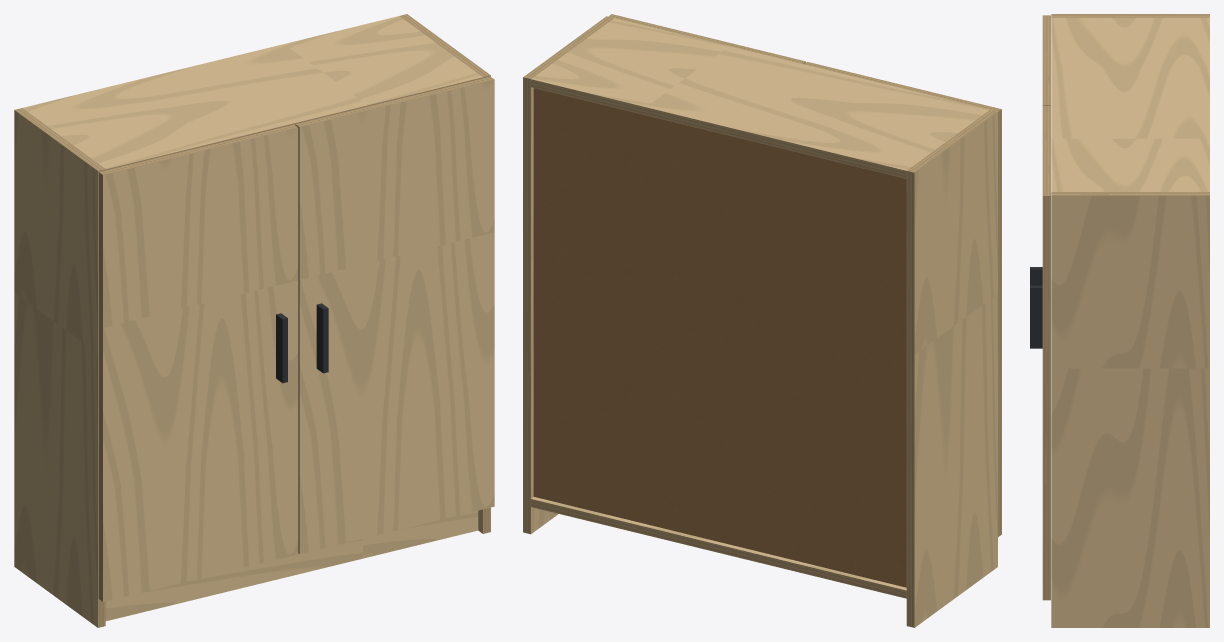
File: SAB-SHO-std.glb
The picture shows the model from 3 angles, left to right: view 1: azimuth 30°, elevation 25°; view 2: azimuth 150°, elevation 25°; view 3: azimuth 270°, elevation 25°; orthographic projection. The views are drawn at different scales.
Visible parts, largest first — view 1: door-r:sheet:eyJtIjoicGx5Iiwic2lkZSI6ImZhY2UiLCJzZWVkIjoyLCJ, door-l:sheet:eyJtIjoicGx5Iiwic2lkZSI6ImZhY2UiLCJzZWVkIjoyLCJ, side-l:sheet:eyJtIjoicGx5Iiwic2lkZSI6ImZhY2UiLCJzZWVkIjoxLCJ, top:sheet:eyJtIjoicGx5Iiwic2lkZSI6ImZhY2UiLCJzZWVkIjo2LCJ2ZW, plinth:sheet:eyJtIjoicGx5Iiwic2lkZSI6ImZhY2UiLCJzZWVkIjozLCJ, door-l:sheet:eyJtIjoicGx5Iiwic2lkZSI6ImVkZ2UtbG9uZyIsInNlZWQ, pull, door-l:sheet:eyJtIjoicGx5Iiwic2lkZSI6ImVkZ2UtZW5kIiwic2VlZCI, door-r:sheet:eyJtIjoicGx5Iiwic2lkZSI6ImVkZ2UtZW5kIiwic2VlZCI, door-r:sheet:eyJtIjoicGx5Iiwic2lkZSI6ImVkZ2UtbG9uZyIsInNlZWQ, side-l:sheet:eyJtIjoicGx5Iiwic2lkZSI6ImVkZ2UtZW5kIiwic2VlZCI, side-r:sheet:eyJtIjoicGx5Iiwic2lkZSI6ImVkZ2UtZW5kIiwic2VlZCI (+2 smaller); view 2: back:sheet:eyJtIjoibWRmIiwic2lkZSI6ImZhY2UiLCJzZWVkIjoxLCJ0a, side-l:sheet:eyJtIjoicGx5Iiwic2lkZSI6ImZhY2UiLCJzZWVkIjoxLCJ, top:sheet:eyJtIjoicGx5Iiwic2lkZSI6ImZhY2UiLCJzZWVkIjo2LCJ2ZW, side-l:sheet:eyJtIjoicGx5Iiwic2lkZSI6ImVkZ2UtbG9uZyIsInNlZWQ, side-r:sheet:eyJtIjoicGx5Iiwic2lkZSI6ImVkZ2UtbG9uZyIsInNlZWQ, top:sheet:eyJtIjoicGx5Iiwic2lkZSI6ImVkZ2UtbG9uZyIsInNlZWQiOj, bottom:sheet:eyJtIjoicGx5Iiwic2lkZSI6ImVkZ2UtbG9uZyIsInNlZWQ, door-l:sheet:eyJtIjoicGx5Iiwic2lkZSI6ImVkZ2UtbG9uZyIsInNlZWQ, side-r:sheet:eyJtIjoicGx5Iiwic2lkZSI6ImZhY2UiLCJzZWVkIjozLCJ, bottom:sheet:eyJtIjoicGx5Iiwic2lkZSI6ImZhY2UiLCJzZWVkIjowLCJ, door-l:sheet:eyJtIjoicGx5Iiwic2lkZSI6ImVkZ2UtZW5kIiwic2VlZCI, door-r:sheet:eyJtIjoicGx5Iiwic2lkZSI6ImVkZ2UtZW5kIiwic2VlZCI (+2 smaller); view 3: side-r:sheet:eyJtIjoicGx5Iiwic2lkZSI6ImZhY2UiLCJzZWVkIjozLCJ, top:sheet:eyJtIjoicGx5Iiwic2lkZSI6ImZhY2UiLCJzZWVkIjo2LCJ2ZW, door-r:sheet:eyJtIjoicGx5Iiwic2lkZSI6ImVkZ2UtbG9uZyIsInNlZWQ, pull, door-l:sheet:eyJtIjoicGx5Iiwic2lkZSI6ImVkZ2UtZW5kIiwic2VlZCI, door-r:sheet:eyJtIjoicGx5Iiwic2lkZSI6ImVkZ2UtZW5kIiwic2VlZCI, side-l:sheet:eyJtIjoicGx5Iiwic2lkZSI6ImVkZ2UtZW5kIiwic2VlZCI, side-r:sheet:eyJtIjoicGx5Iiwic2lkZSI6ImVkZ2UtZW5kIiwic2VlZCI.
Boxes of the visible parts, x1,y1,x2,y2 form: door-r:sheet:eyJtIjoicGx5Iiwic2lkZSI6ImZhY2UiLCJzZWVkIjoyLCJ: (299, 79, 494, 553); door-l:sheet:eyJtIjoicGx5Iiwic2lkZSI6ImZhY2UiLCJzZWVkIjoyLCJ: (103, 127, 298, 601); side-l:sheet:eyJtIjoicGx5Iiwic2lkZSI6ImZhY2UiLCJzZWVkIjoxLCJ: (14, 110, 97, 627); top:sheet:eyJtIjoicGx5Iiwic2lkZSI6ImZhY2UiLCJzZWVkIjo2LCJ2ZW: (22, 16, 482, 168); plinth:sheet:eyJtIjoicGx5Iiwic2lkZSI6ImZhY2UiLCJzZWVkIjozLCJ: (105, 510, 478, 621); door-l:sheet:eyJtIjoicGx5Iiwic2lkZSI6ImVkZ2UtbG9uZyIsInNlZWQ: (98, 172, 102, 601); pull: (276, 303, 328, 383); door-l:sheet:eyJtIjoicGx5Iiwic2lkZSI6ImVkZ2UtZW5kIiwic2VlZCI: (99, 124, 297, 174); door-r:sheet:eyJtIjoicGx5Iiwic2lkZSI6ImVkZ2UtZW5kIiwic2VlZCI: (295, 76, 494, 127); door-r:sheet:eyJtIjoicGx5Iiwic2lkZSI6ImVkZ2UtbG9uZyIsInNlZWQ: (295, 124, 299, 553); side-l:sheet:eyJtIjoicGx5Iiwic2lkZSI6ImVkZ2UtZW5kIiwic2VlZCI: (14, 108, 105, 170); side-r:sheet:eyJtIjoicGx5Iiwic2lkZSI6ImVkZ2UtZW5kIiwic2VlZCI: (400, 14, 490, 76); back:sheet:eyJtIjoibWRmIiwic2lkZSI6ImZhY2UiLCJzZWVkIjoxLCJ0a: (533, 88, 906, 587); side-l:sheet:eyJtIjoicGx5Iiwic2lkZSI6ImZhY2UiLCJzZWVkIjoxLCJ: (914, 112, 997, 627); top:sheet:eyJtIjoicGx5Iiwic2lkZSI6ImZhY2UiLCJzZWVkIjo2LCJ2ZW: (531, 18, 989, 170); side-l:sheet:eyJtIjoicGx5Iiwic2lkZSI6ImVkZ2UtbG9uZyIsInNlZWQ: (906, 171, 914, 627); side-r:sheet:eyJtIjoicGx5Iiwic2lkZSI6ImVkZ2UtbG9uZyIsInNlZWQ: (523, 77, 530, 534); top:sheet:eyJtIjoicGx5Iiwic2lkZSI6ImVkZ2UtbG9uZyIsInNlZWQiOj: (531, 79, 906, 178); bottom:sheet:eyJtIjoicGx5Iiwic2lkZSI6ImVkZ2UtbG9uZyIsInNlZWQ: (531, 499, 906, 598); door-l:sheet:eyJtIjoicGx5Iiwic2lkZSI6ImVkZ2UtbG9uZyIsInNlZWQ: (998, 109, 1001, 536); side-r:sheet:eyJtIjoicGx5Iiwic2lkZSI6ImZhY2UiLCJzZWVkIjozLCJ: (531, 87, 558, 533); bottom:sheet:eyJtIjoicGx5Iiwic2lkZSI6ImZhY2UiLCJzZWVkIjowLCJ: (531, 497, 906, 590); door-l:sheet:eyJtIjoicGx5Iiwic2lkZSI6ImVkZ2UtZW5kIiwic2VlZCI: (804, 62, 1001, 111); door-r:sheet:eyJtIjoicGx5Iiwic2lkZSI6ImVkZ2UtZW5kIiwic2VlZCI: (608, 14, 805, 63); side-r:sheet:eyJtIjoicGx5Iiwic2lkZSI6ImZhY2UiLCJzZWVkIjozLCJ: (1051, 195, 1209, 627); top:sheet:eyJtIjoicGx5Iiwic2lkZSI6ImZhY2UiLCJzZWVkIjo2LCJ2ZW: (1051, 17, 1209, 191); door-r:sheet:eyJtIjoicGx5Iiwic2lkZSI6ImVkZ2UtbG9uZyIsInNlZWQ: (1042, 196, 1050, 600); pull: (1030, 267, 1042, 348); door-l:sheet:eyJtIjoicGx5Iiwic2lkZSI6ImVkZ2UtZW5kIiwic2VlZCI: (1042, 15, 1050, 105); door-r:sheet:eyJtIjoicGx5Iiwic2lkZSI6ImVkZ2UtZW5kIiwic2VlZCI: (1042, 106, 1050, 195); side-l:sheet:eyJtIjoicGx5Iiwic2lkZSI6ImVkZ2UtZW5kIiwic2VlZCI: (1051, 14, 1209, 17); side-r:sheet:eyJtIjoicGx5Iiwic2lkZSI6ImVkZ2UtZW5kIiwic2VlZCI: (1051, 192, 1209, 195).
Bounding box in the file's own units: 0.9 × 1 × 0.3766.
34 materials, 33 textured.
